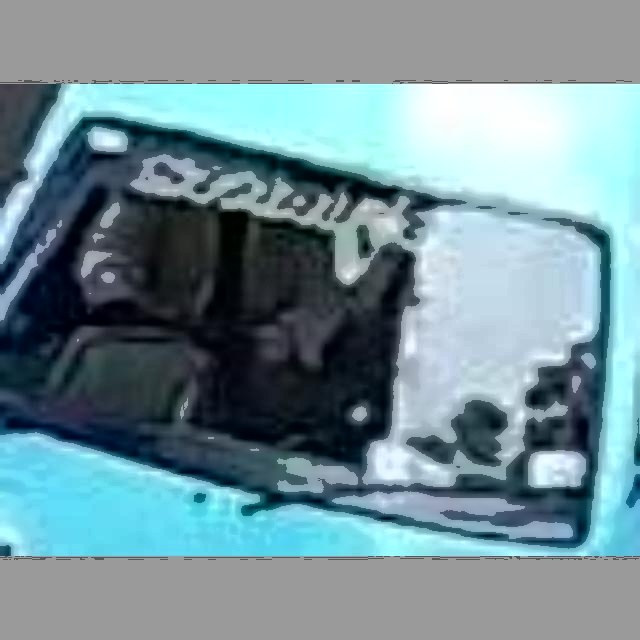tidak-pakai: (81, 159, 363, 401)
